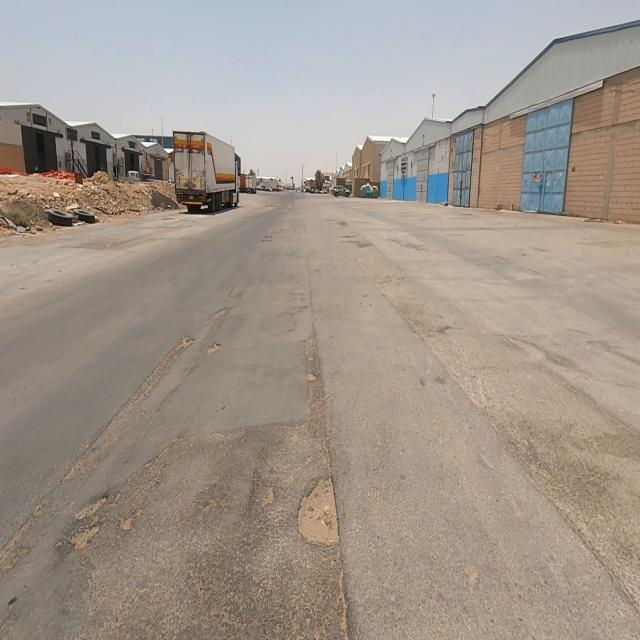Pothole: (62, 336, 194, 482), (0, 498, 48, 577), (298, 480, 339, 544), (76, 498, 106, 520), (71, 527, 99, 549), (258, 484, 274, 507), (206, 342, 220, 356), (306, 373, 316, 382)
